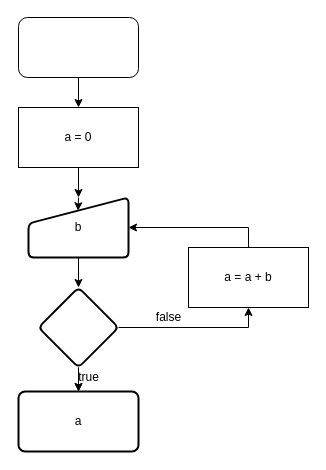
Some shapes in this 326 by 470 pixel diagram are drawn without their labels. The box of each missing label's shape, as (x1, y1, x2, y2) in pixels:
if b < 0: (37, 286, 119, 368)
Start: (18, 16, 138, 78)
